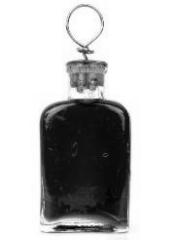glass: (34, 58, 136, 236)
